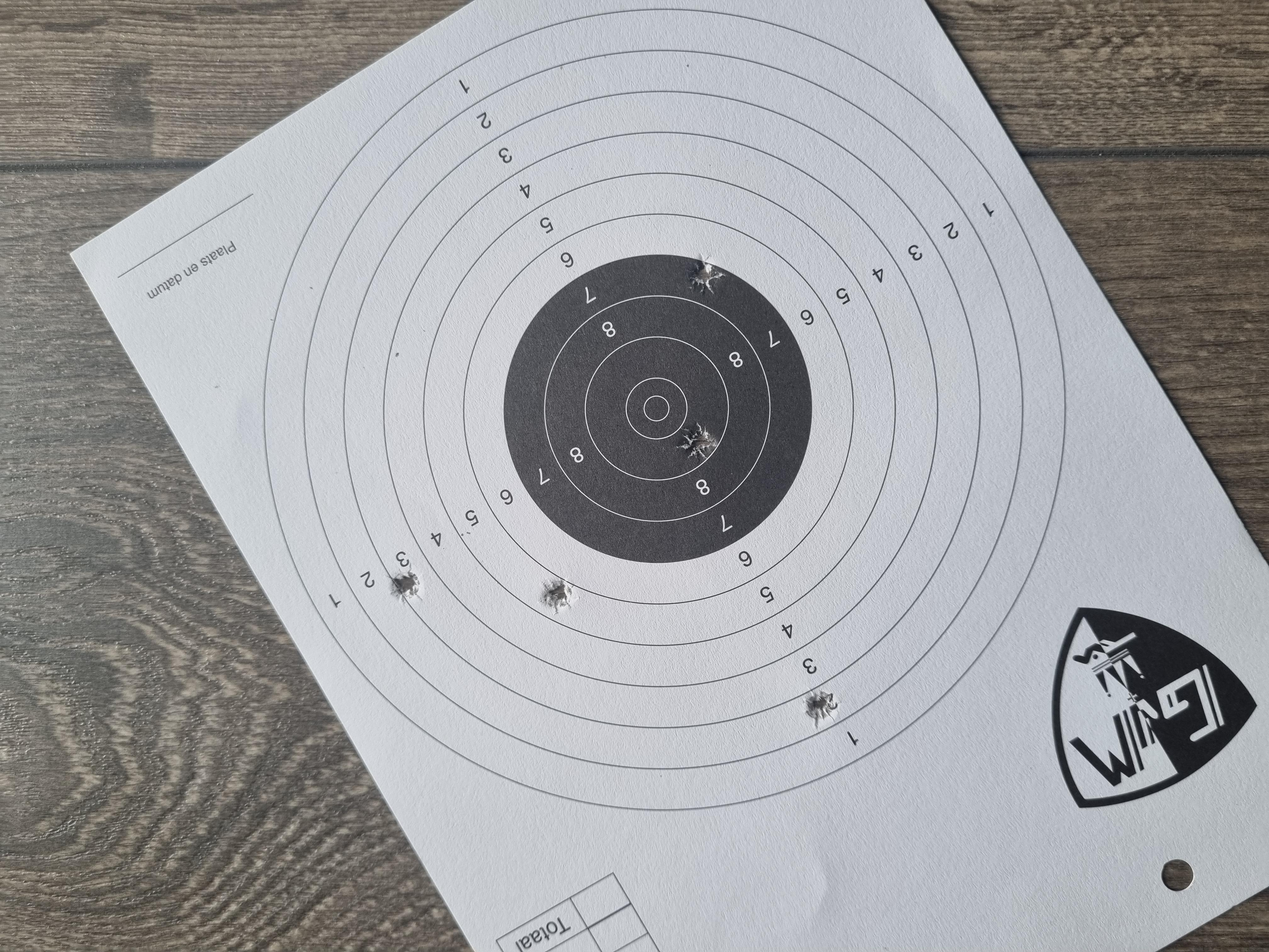hole: (445, 404, 497, 434), (301, 601, 350, 629), (463, 291, 513, 318), (880, 516, 926, 544), (657, 509, 701, 537)
